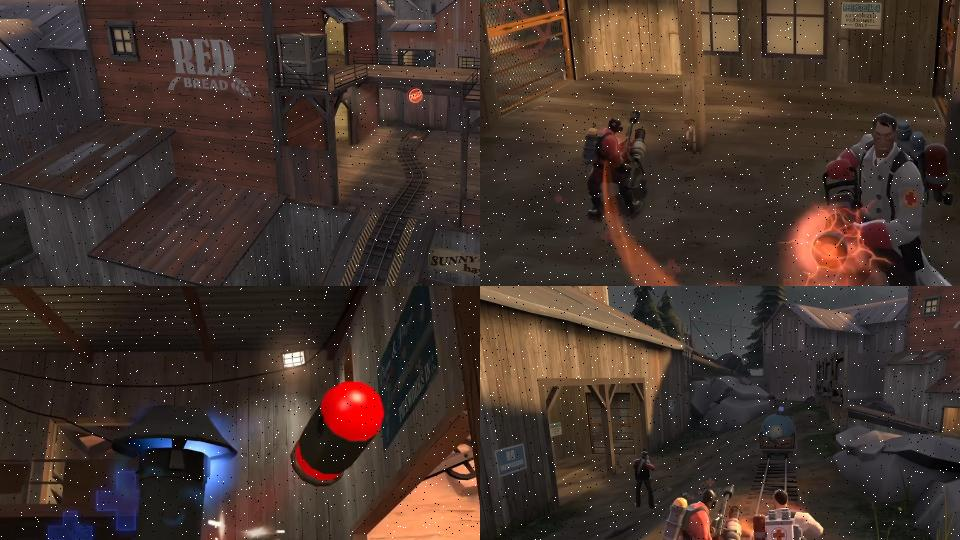Enemy: (816, 112, 960, 286), (584, 110, 646, 220), (660, 480, 744, 540), (741, 488, 832, 540), (630, 449, 661, 512)
